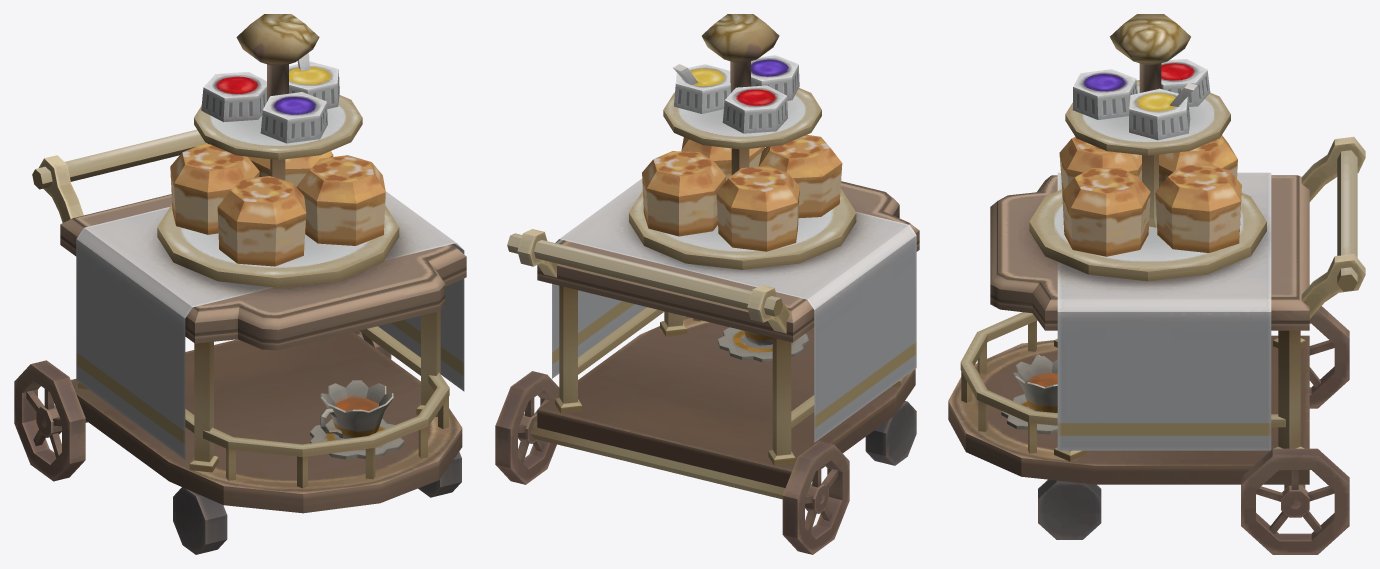
File: my_teaparty_01_tablevolante_01.glb
The picture shows the model from 3 angles, left to right: view 1: azimuth 30°, elevation 25°; view 2: azimuth 150°, elevation 25°; view 3: azimuth 270°, elevation 25°; orthographic projection. The views are drawn at different scales.
Visible parts, largest first — view 1: my_teaparty_01_tablevolante_01; view 2: my_teaparty_01_tablevolante_01; view 3: my_teaparty_01_tablevolante_01.
Boxes of the visible parts, x1,y1,x2,y2 form: my_teaparty_01_tablevolante_01: (14,14,466,554); my_teaparty_01_tablevolante_01: (495,14,919,554); my_teaparty_01_tablevolante_01: (948,14,1365,554).
Size of the model in its own units: 0.00513 by 0.00708 by 0.00588.
1 material, 1 textured.
